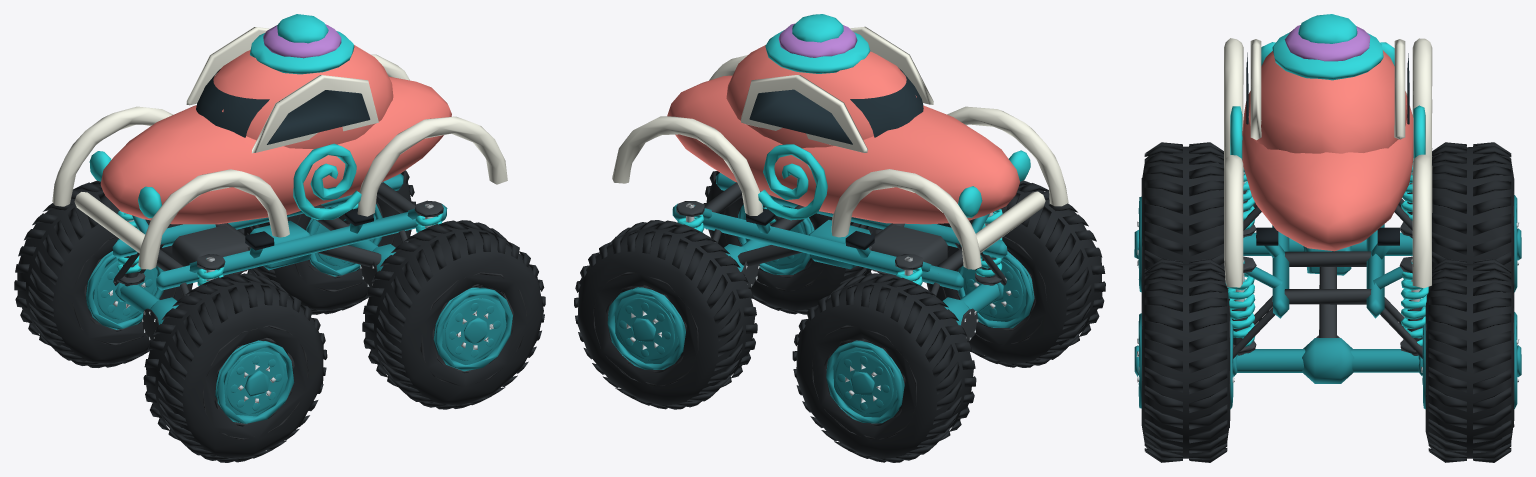
The model's file is CandyCrush_LOD1.fbx.
The picture shows the model from 3 angles, left to right: view 1: azimuth 30°, elevation 25°; view 2: azimuth 150°, elevation 25°; view 3: azimuth 270°, elevation 25°; orthographic projection. The views are drawn at different scales.
Visible parts, largest first — view 1: CandyCrush_LOD1_sprung_body_Geometry, CandyCrush_LOD1_FL_Spin_Geometry, CandyCrush_LOD1_RL_Spin_Geometry, CandyCrush_LOD1_FR_Spin_Geometry, CandyCrush_LOD1_RR_Spin_Geometry, CandyCrush_LOD1_FRONT_axle_Geometry, CandyCrush_LOD1_Root_Geometry, CandyCrush_LOD1_REAR_axle_Geometry, CandyCrush_LOD1_FRONT_shock_-1_Geometry, CandyCrush_LOD1_REAR_shock_-1_Geometry, CandyCrush_LOD1_FRONT_shock_1_Geometry; view 2: CandyCrush_LOD1_sprung_body_Geometry, CandyCrush_LOD1_FR_Spin_Geometry, CandyCrush_LOD1_RR_Spin_Geometry, CandyCrush_LOD1_FL_Spin_Geometry, CandyCrush_LOD1_RL_Spin_Geometry, CandyCrush_LOD1_FRONT_axle_Geometry, CandyCrush_LOD1_Root_Geometry, CandyCrush_LOD1_REAR_axle_Geometry, CandyCrush_LOD1_FRONT_shock_1_Geometry, CandyCrush_LOD1_REAR_shock_1_Geometry, CandyCrush_LOD1_FRONT_shock_-1_Geometry; view 3: CandyCrush_LOD1_sprung_body_Geometry, CandyCrush_LOD1_RR_Spin_Geometry, CandyCrush_LOD1_RL_Spin_Geometry, CandyCrush_LOD1_FR_Spin_Geometry, CandyCrush_LOD1_FL_Spin_Geometry, CandyCrush_LOD1_REAR_axle_Geometry, CandyCrush_LOD1_Root_Geometry, CandyCrush_LOD1_REAR_shock_-1_Geometry, CandyCrush_LOD1_REAR_shock_1_Geometry, CandyCrush_LOD1_FRONT_axle_Geometry, CandyCrush_LOD1_FRONT_shock_-1_Geometry, CandyCrush_LOD1_FRONT_shock_1_Geometry.
Boxes of the visible parts, x1,y1,x2,y2 form: CandyCrush_LOD1_sprung_body_Geometry: (52,14,507,290); CandyCrush_LOD1_FL_Spin_Geometry: (143,273,327,462); CandyCrush_LOD1_RL_Spin_Geometry: (362,220,545,409); CandyCrush_LOD1_FR_Spin_Geometry: (14,180,192,367); CandyCrush_LOD1_RR_Spin_Geometry: (237,170,415,314); CandyCrush_LOD1_FRONT_axle_Geometry: (120,284,178,341); CandyCrush_LOD1_Root_Geometry: (113,196,408,296); CandyCrush_LOD1_REAR_axle_Geometry: (349,240,395,287); CandyCrush_LOD1_FRONT_shock_-1_Geometry: (197,254,225,285); CandyCrush_LOD1_REAR_shock_-1_Geometry: (414,200,443,232); CandyCrush_LOD1_FRONT_shock_1_Geometry: (117,211,145,285); CandyCrush_LOD1_sprung_body_Geometry: (612,14,1068,290); CandyCrush_LOD1_FR_Spin_Geometry: (792,273,976,462); CandyCrush_LOD1_RR_Spin_Geometry: (574,220,757,409); CandyCrush_LOD1_FL_Spin_Geometry: (925,180,1105,367); CandyCrush_LOD1_RL_Spin_Geometry: (703,171,882,314); CandyCrush_LOD1_FRONT_axle_Geometry: (942,283,999,341); CandyCrush_LOD1_Root_Geometry: (696,196,1006,296); CandyCrush_LOD1_REAR_axle_Geometry: (724,239,770,288); CandyCrush_LOD1_FRONT_shock_1_Geometry: (895,254,922,285); CandyCrush_LOD1_REAR_shock_1_Geometry: (676,201,704,232); CandyCrush_LOD1_FRONT_shock_-1_Geometry: (975,208,1002,285); CandyCrush_LOD1_sprung_body_Geometry: (1224,14,1432,318); CandyCrush_LOD1_RR_Spin_Geometry: (1418,259,1521,462); CandyCrush_LOD1_RL_Spin_Geometry: (1134,259,1237,462); CandyCrush_LOD1_FR_Spin_Geometry: (1432,142,1521,294); CandyCrush_LOD1_FL_Spin_Geometry: (1134,142,1224,293); CandyCrush_LOD1_REAR_axle_Geometry: (1236,335,1419,383); CandyCrush_LOD1_Root_Geometry: (1233,198,1422,358); CandyCrush_LOD1_REAR_shock_-1_Geometry: (1224,256,1256,354); CandyCrush_LOD1_REAR_shock_1_Geometry: (1399,256,1428,354); CandyCrush_LOD1_FRONT_axle_Geometry: (1243,232,1412,255); CandyCrush_LOD1_FRONT_shock_-1_Geometry: (1243,168,1256,236); CandyCrush_LOD1_FRONT_shock_1_Geometry: (1400,148,1432,236).
Bounding box in the file's own units: 515 × 458 × 414.
